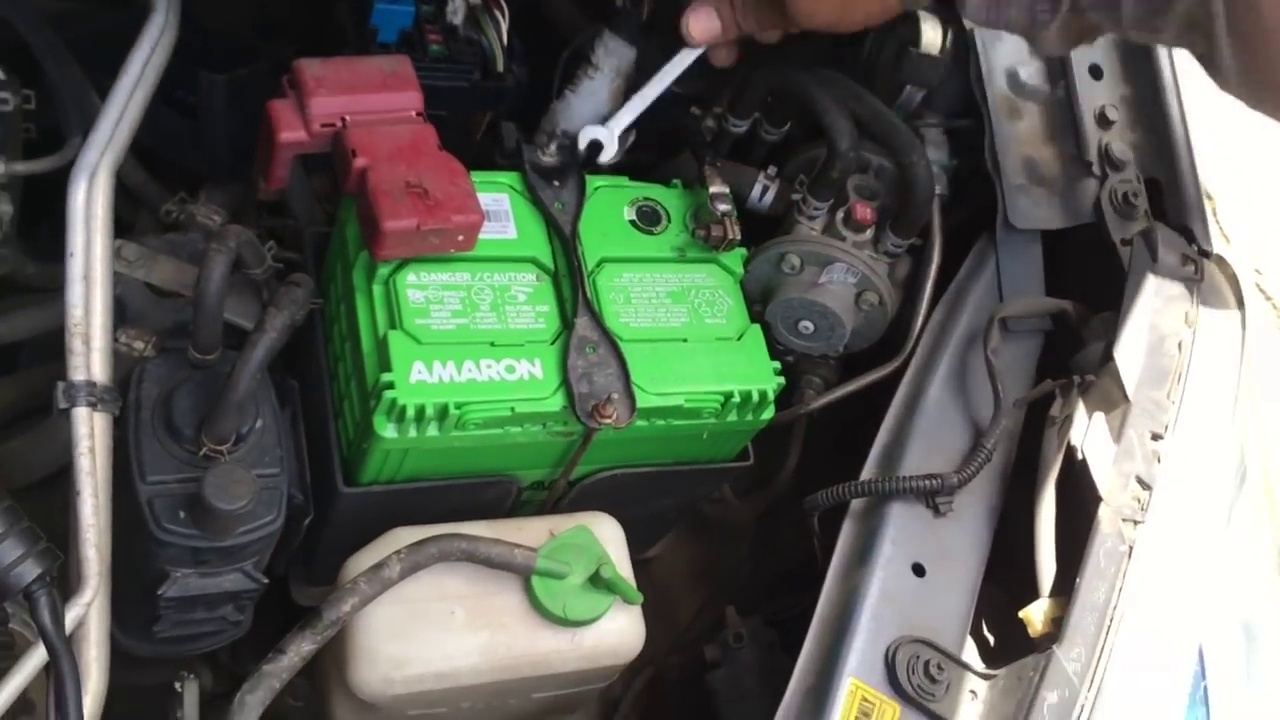battery: (333, 148, 788, 476)
neg_connected: (665, 156, 753, 266)
pos_connected: (257, 62, 498, 261)
